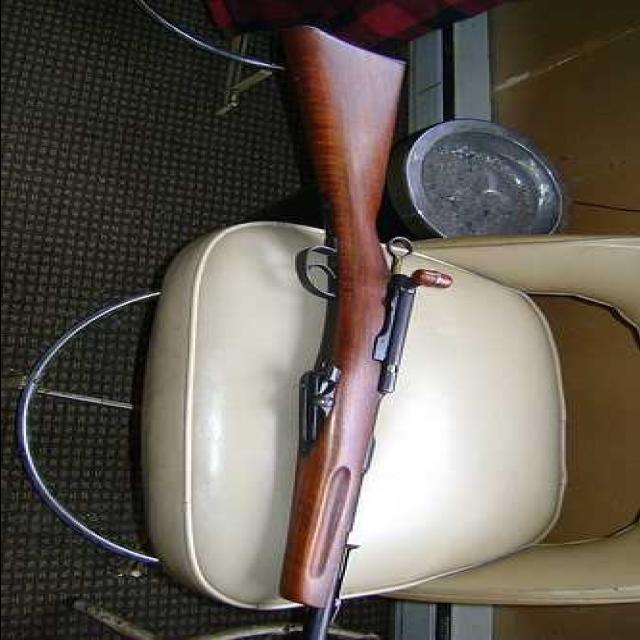heavyweapon: (241, 24, 451, 640)
